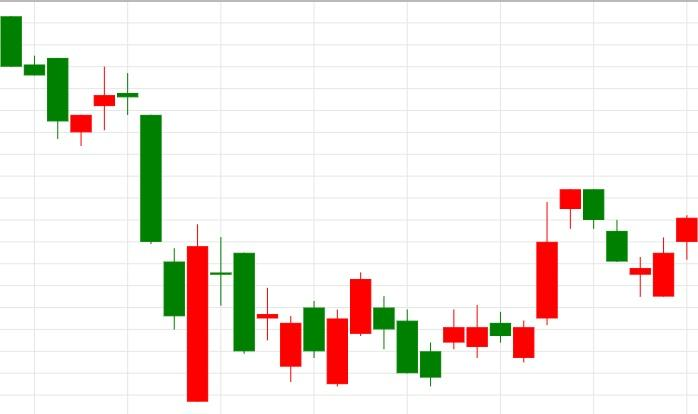bullish_engulfing_rise: (116, 74, 208, 402)
